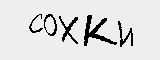И: (117, 22, 134, 47)
К: (82, 13, 117, 47)
О: (41, 10, 59, 37)
С: (27, 10, 44, 35)
Х: (57, 13, 78, 44)
